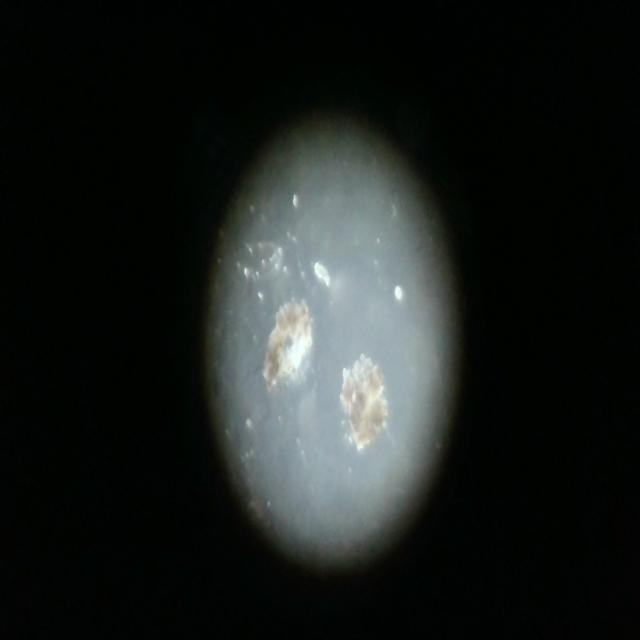alexandrium: (252, 279, 326, 413), (338, 339, 414, 457)
